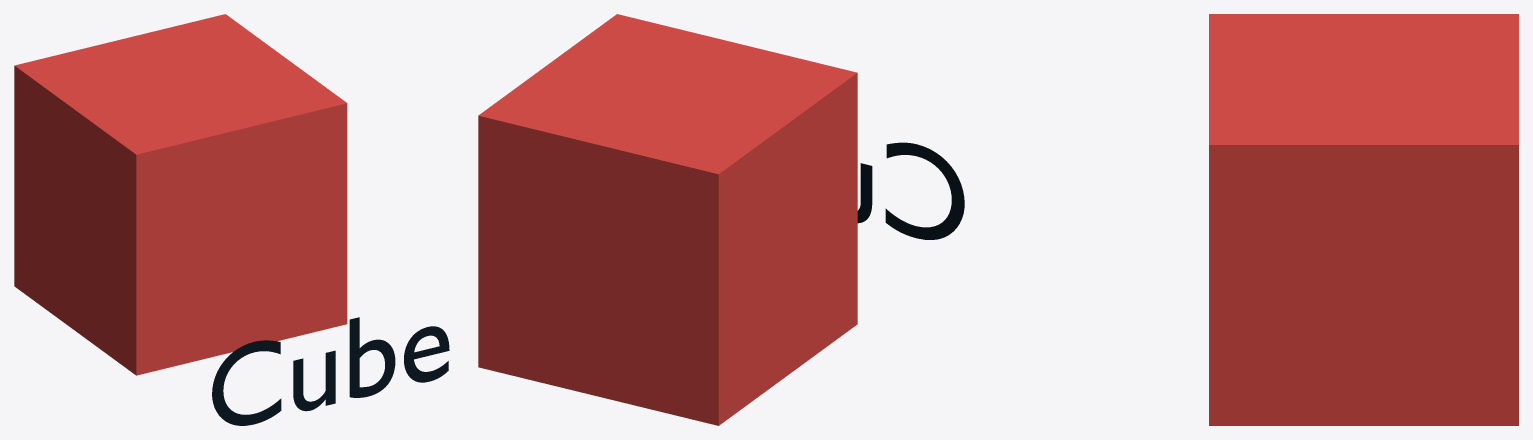
The picture shows the model from 3 angles, left to right: view 1: azimuth 30°, elevation 25°; view 2: azimuth 150°, elevation 25°; view 3: azimuth 270°, elevation 25°; orthographic projection. The views are drawn at different scales.
Parts seen in each view (by area): view 1: Cube, Text; view 2: Cube, Text; view 3: Cube.
Part boxes in pixels (x1,y1,x2,y2): Cube: (14, 14, 347, 375); Text: (212, 317, 449, 425); Cube: (478, 14, 857, 425); Text: (857, 142, 964, 239); Cube: (1209, 14, 1518, 425).
Bounding box in the file's own units: 0.225 × 0.2 × 0.3393.
